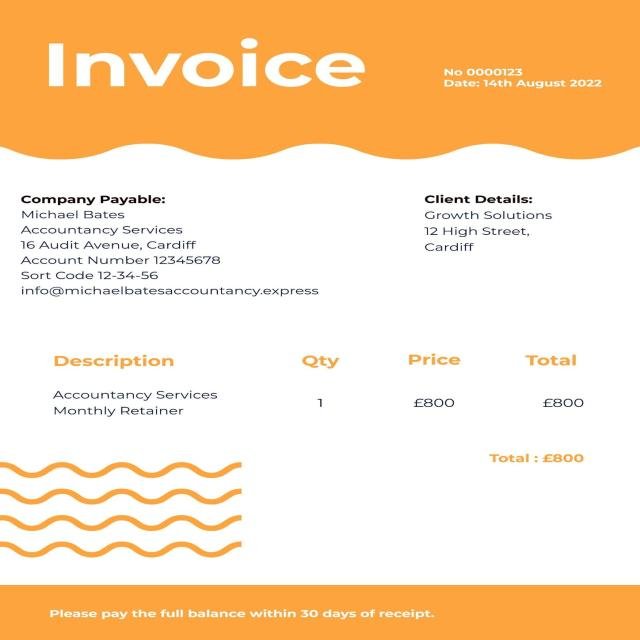paragraph: (14, 195, 325, 302), (42, 39, 370, 98), (411, 187, 571, 263), (44, 607, 472, 628), (437, 62, 606, 96), (489, 449, 597, 466)
table: (37, 343, 614, 425)
